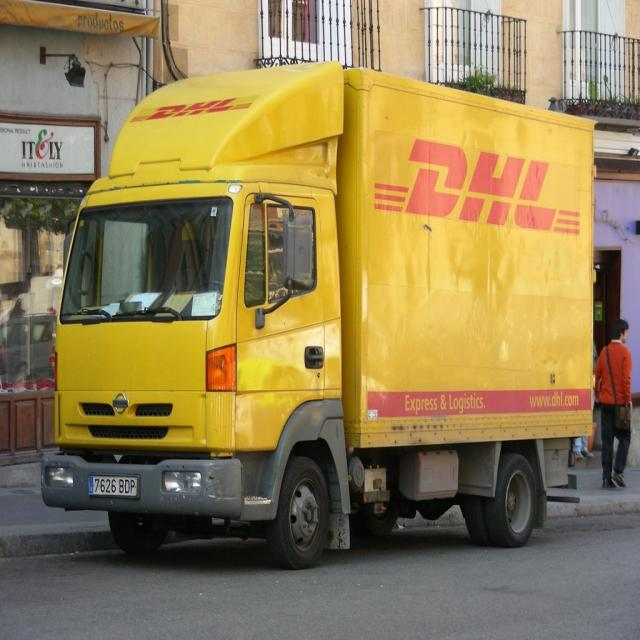dhl: (374, 134, 585, 241), (132, 99, 255, 125)
